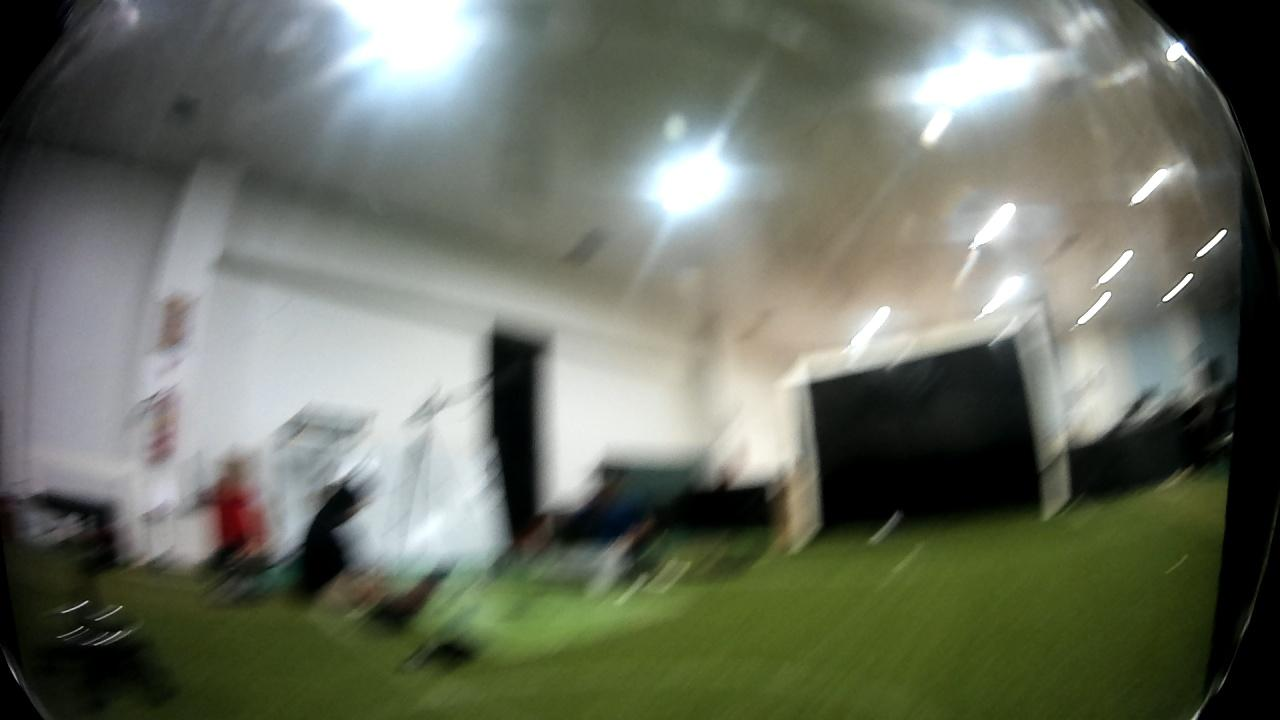ball: (862, 507, 903, 553)
